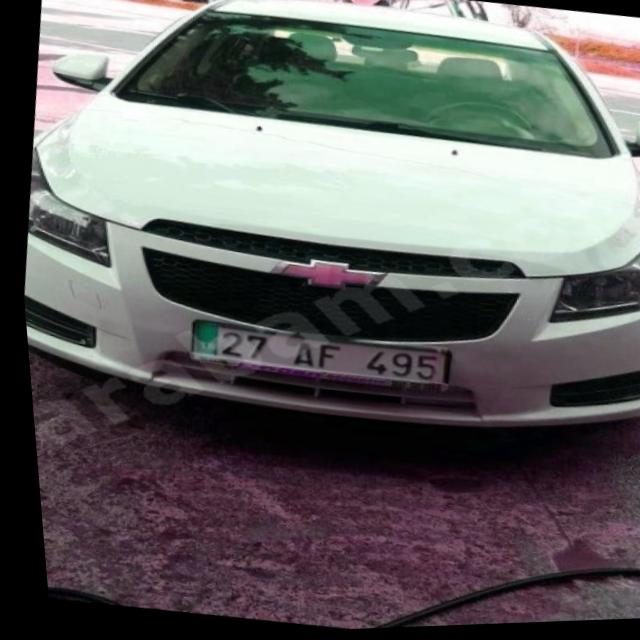license_plate: (185, 316, 444, 395)
